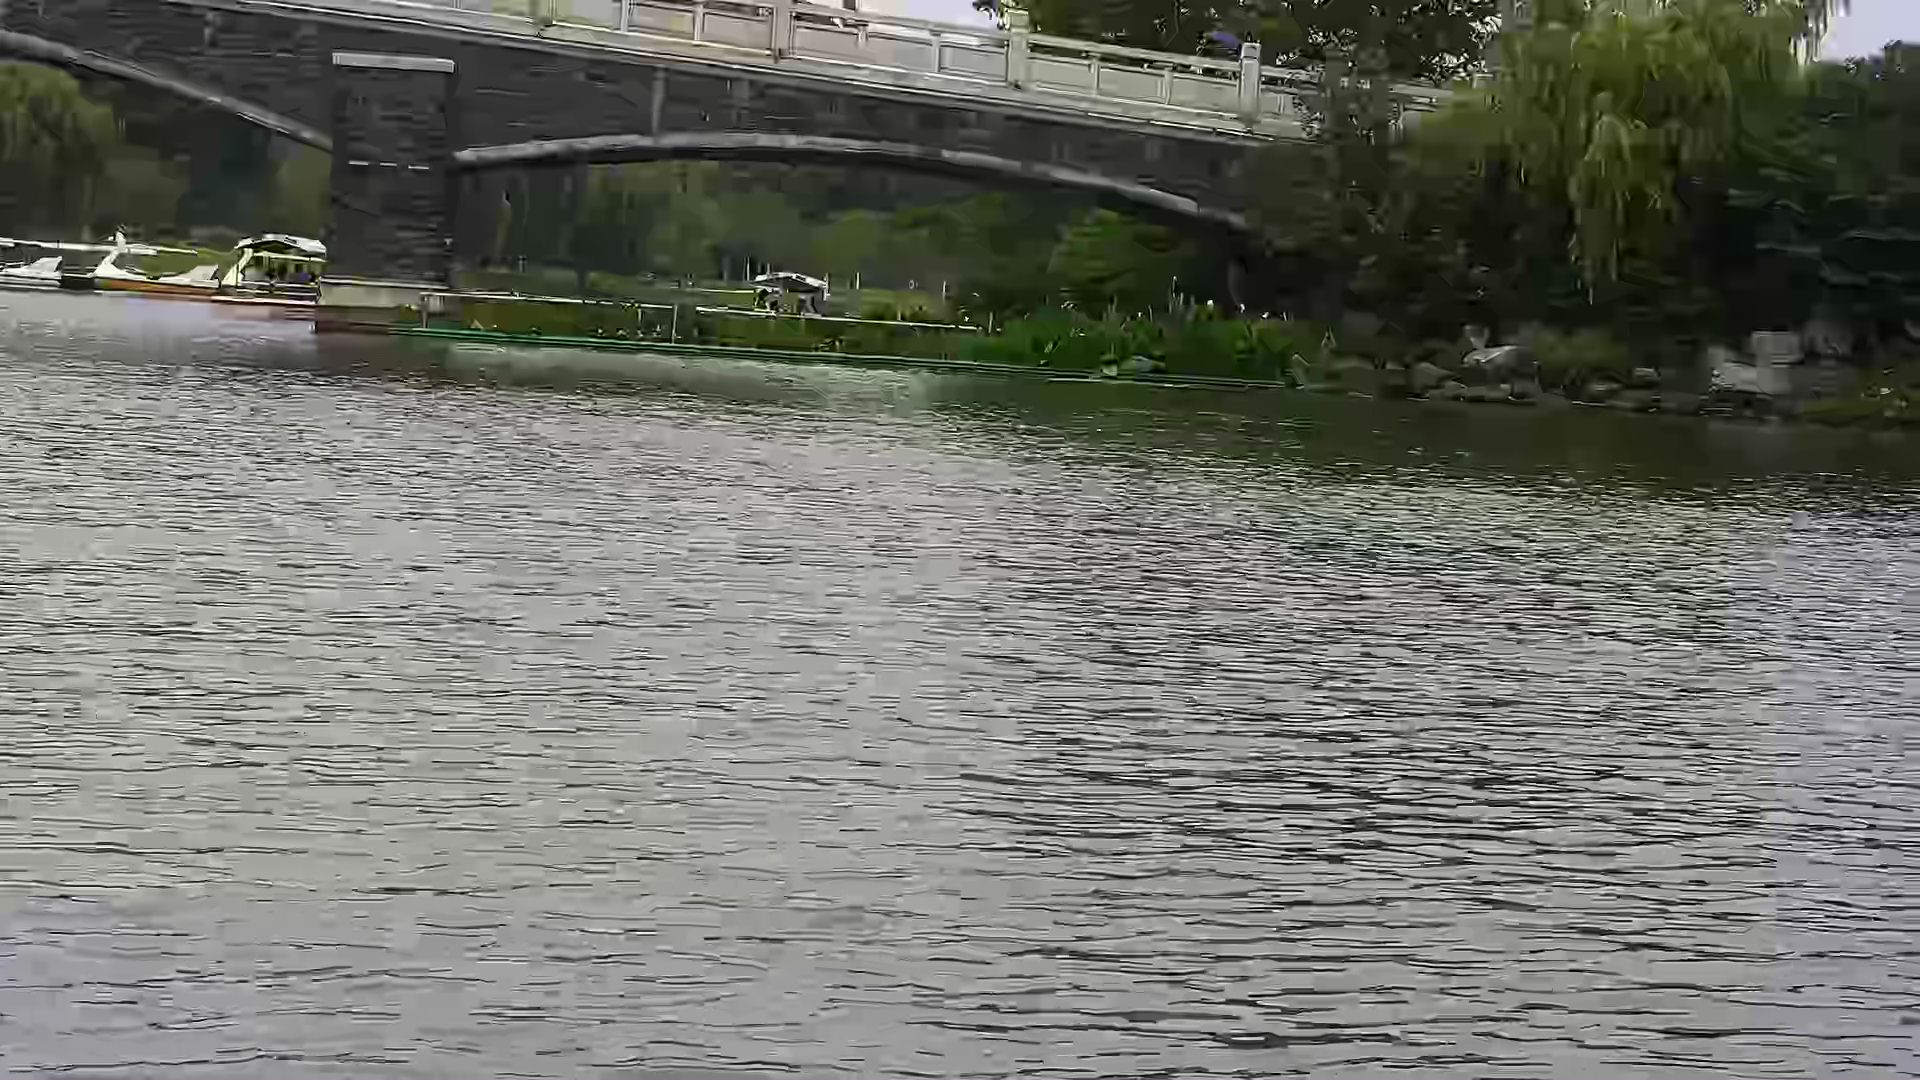bridge: (66, 11, 1336, 284)
